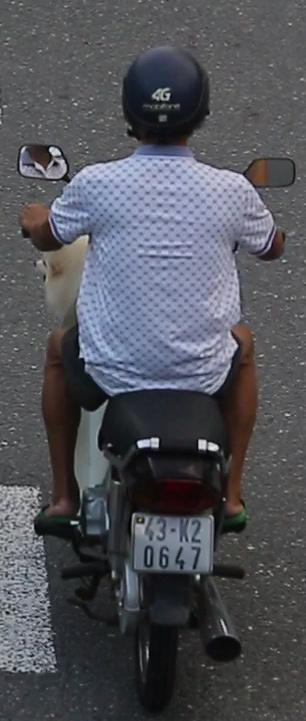LP: (127, 507, 219, 579)
helmet: (118, 38, 218, 164)
